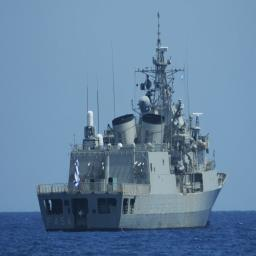Fragata: (37, 10, 231, 237)
